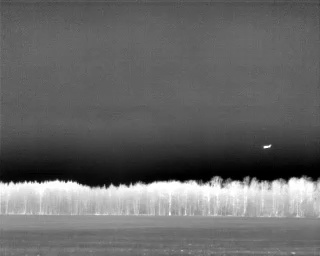DRONE: (259, 139, 277, 154)
